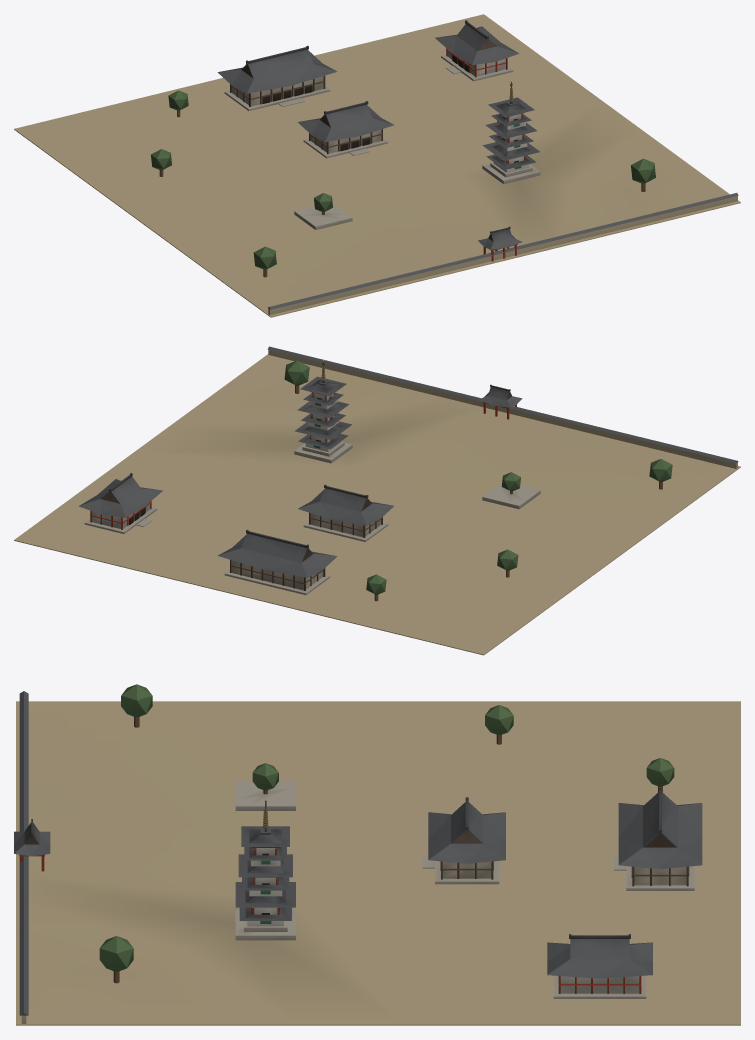
File: yakushiji-1700.glb
The picture shows the model from 3 angles, top to bottom: view 1: azimuth 30°, elevation 25°; view 2: azimuth 150°, elevation 25°; view 3: azimuth 270°, elevation 25°; orthographic projection. The views are drawn at different scales.
Parts seen in each view (by area): view 1: p0_grounds, p2_roofs, p1_halls; view 2: p0_grounds, p2_roofs, p1_halls; view 3: p0_grounds, p2_roofs, p1_halls.
Boxes of the visible parts, bbox=[...] form: p0_grounds: bbox=[14, 14, 740, 317]; p2_roofs: bbox=[151, 20, 655, 277]; p1_halls: bbox=[224, 48, 522, 261]; p0_grounds: bbox=[14, 346, 740, 655]; p2_roofs: bbox=[78, 360, 672, 601]; p1_halls: bbox=[84, 384, 522, 595]; p0_grounds: bbox=[16, 691, 740, 1025]; p2_roofs: bbox=[99, 684, 702, 983]; p1_halls: bbox=[14, 819, 694, 998].
Size of the model in its own units: 190 by 35.48 by 180.
